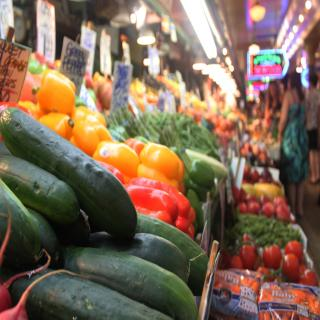Cucumber: (0, 107, 210, 320)
